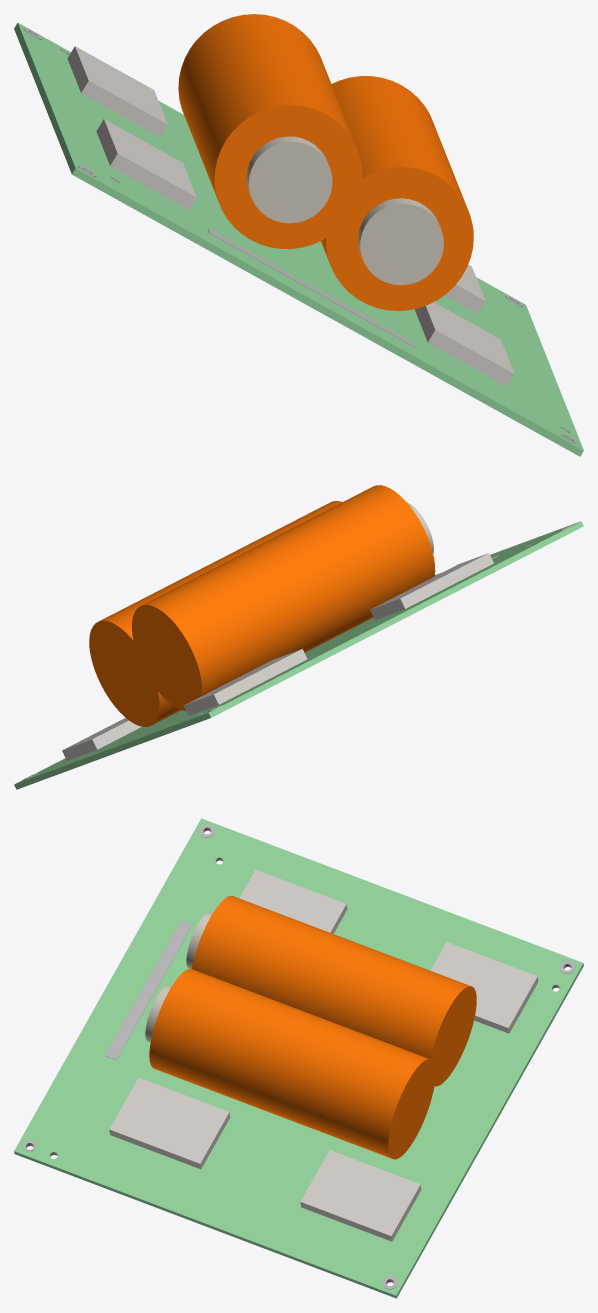
Rendered from batteries.glb.
3 renders of one model, top to bottom at view 1: azimuth 30°, elevation 25°; view 2: azimuth 150°, elevation 25°; view 3: azimuth 270°, elevation 25°, orthographic. The views are drawn at different scales.
Visible parts, largest first — view 1: part14-1, part15-1, part15-2; view 2: part15-1, part14-1, part15-2; view 3: part14-1, part15-2, part15-1.
Part boxes in pixels (<box>): part14-1: <box>14,23,583,456</box>; part15-1: <box>178,14,362,248</box>; part15-2: <box>321,76,473,310</box>; part15-1: <box>132,485,435,710</box>; part14-1: <box>14,521,583,789</box>; part15-2: <box>89,501,342,726</box>; part14-1: <box>14,818,583,1298</box>; part15-2: <box>145,968,435,1159</box>; part15-1: <box>186,896,476,1086</box>.
Size of the model in its own units: 0.0916 by 0.0571 by 0.1068.
